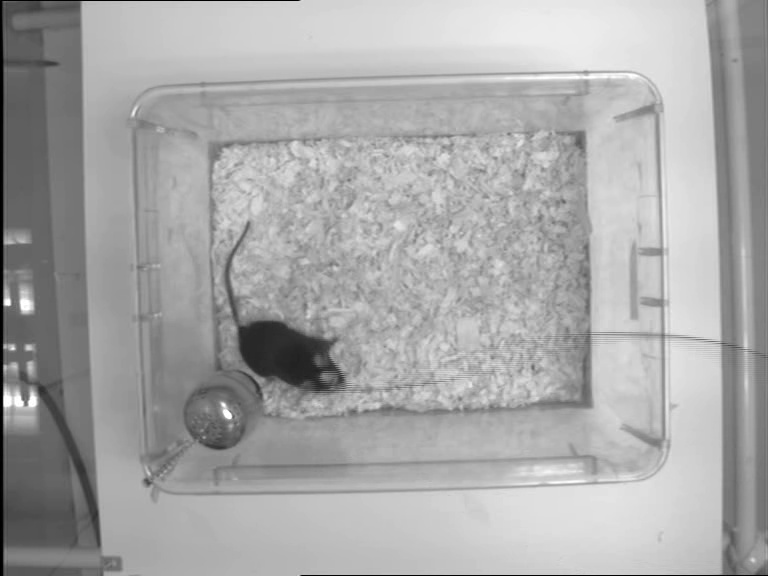mice: (222, 218, 348, 396)
